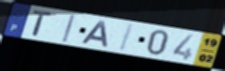0: (145, 29, 172, 56)
4: (171, 34, 195, 61)
A: (80, 20, 110, 48)
I: (117, 23, 136, 53), (61, 14, 77, 44)
T: (31, 9, 54, 38)
